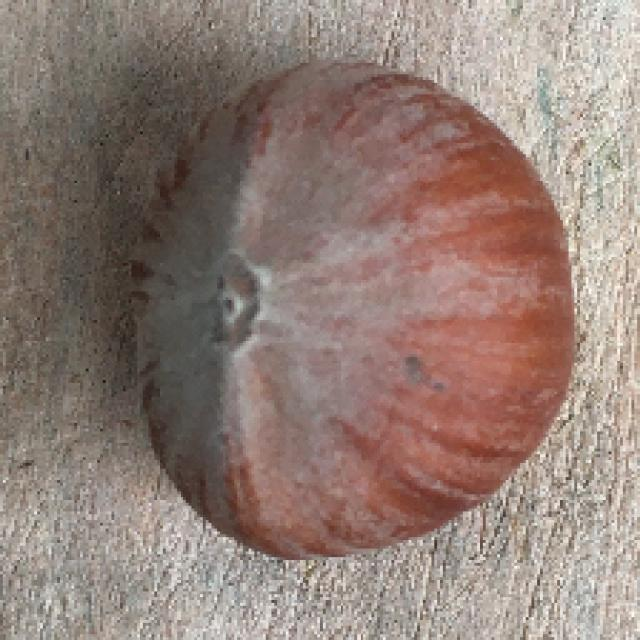hazelnut: (107, 52, 587, 572)
